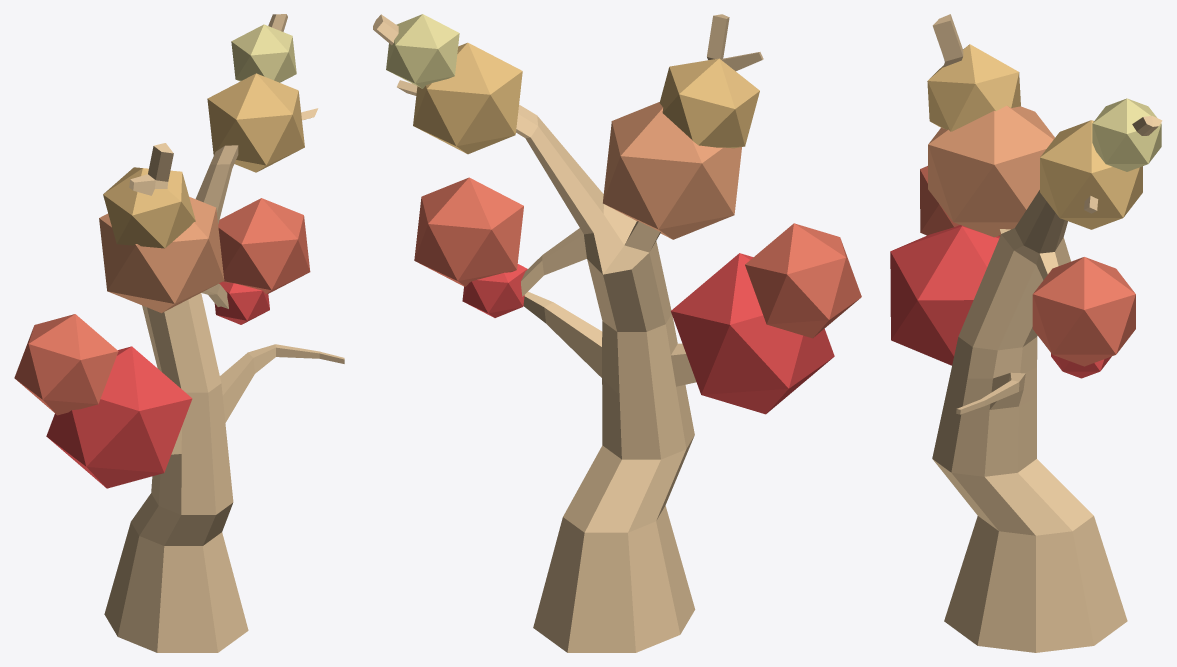
Rendered from 01_04Tree_Red.fbx.
3 views of the same model, side by side, from view 1: azimuth 30°, elevation 25°; view 2: azimuth 150°, elevation 25°; view 3: azimuth 270°, elevation 25° (orthographic). The views are drawn at different scales.
Visible parts, largest first — view 1: Cube.014; view 2: Cube.014; view 3: Cube.014.
Part boxes in pixels (x1=…): Cube.014: x1=14, y1=14, x2=344, y2=652; Cube.014: x1=373, y1=14, x2=861, y2=652; Cube.014: x1=890, y1=14, x2=1162, y2=652.
Bounding box in the file's own units: 168 × 251 × 104.
